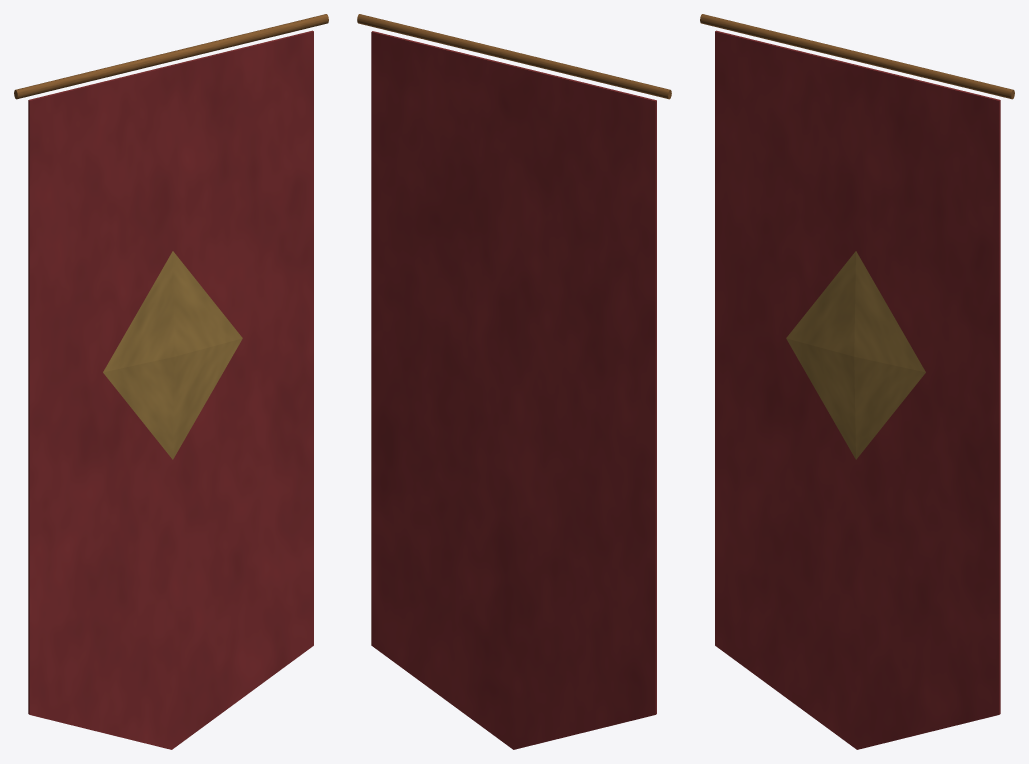
File: Furn_HallBannerRed.fbx
3 views of the same model, side by side, from view 1: azimuth 30°, elevation 25°; view 2: azimuth 150°, elevation 25°; view 3: azimuth 330°, elevation 25° (orthographic).
Parts seen in each view (by area): view 1: Furn_HallBannerRed_Mesh; view 2: Furn_HallBannerRed_Mesh; view 3: Furn_HallBannerRed_Mesh.
Part boxes in pixels (left/top/right/bottom): Furn_HallBannerRed_Mesh: left=14, top=14, right=328, bottom=749; Furn_HallBannerRed_Mesh: left=357, top=14, right=671, bottom=749; Furn_HallBannerRed_Mesh: left=700, top=14, right=1014, bottom=749.
Bounding box in the file's own units: 1.4 × 3 × 0.04.
3 materials, 3 textured.
